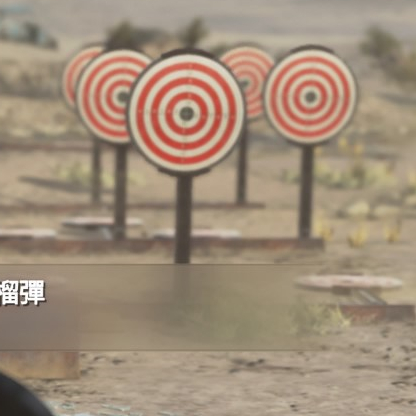target: (123, 46, 246, 177), (260, 44, 358, 145), (75, 46, 125, 146)
